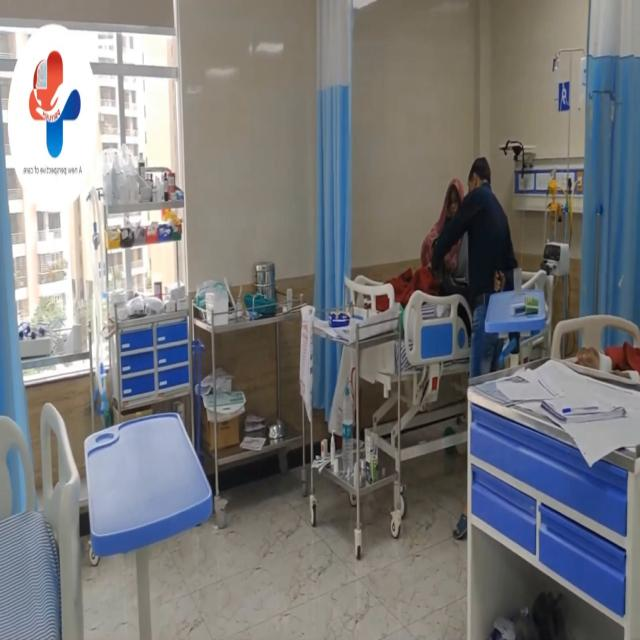Family-Member: (446, 150, 514, 542)
Patient: (358, 152, 466, 360)
